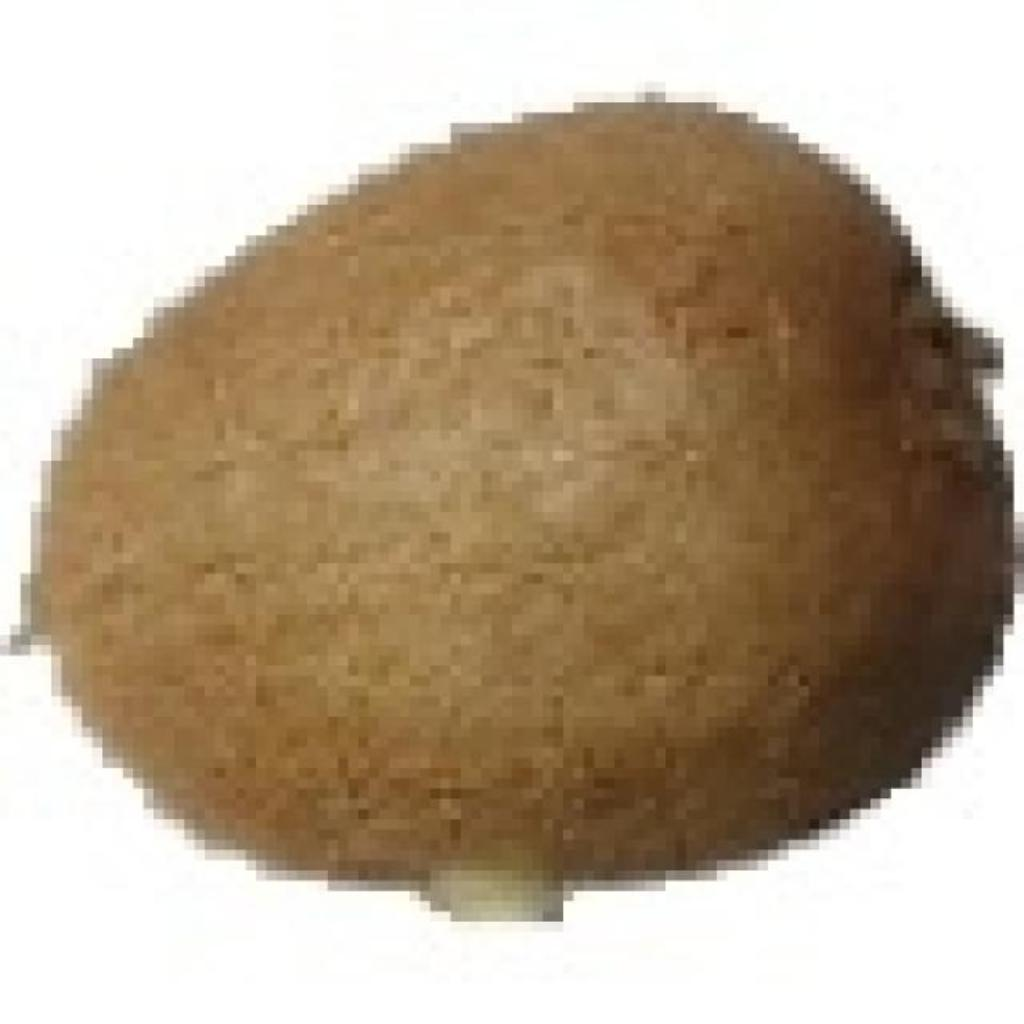kiwi: (31, 92, 993, 891)
